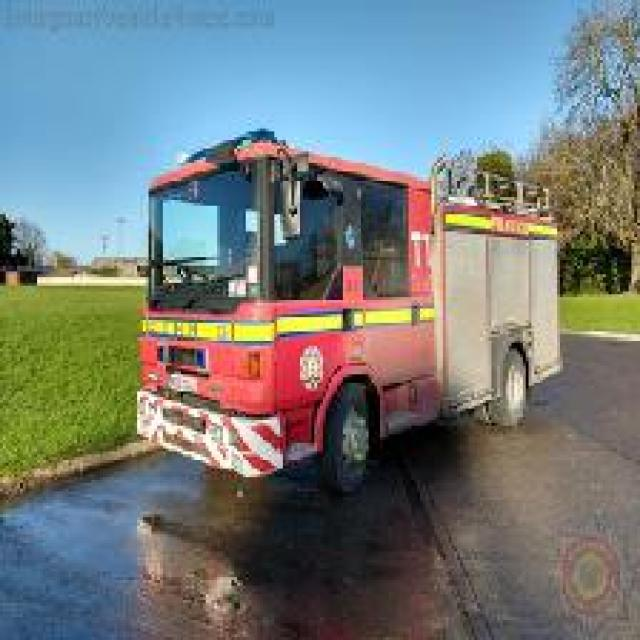Fire-truck: (131, 126, 563, 494)
